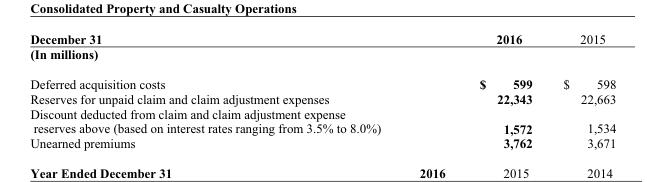table: (29, 29, 615, 151)
table column: (29, 29, 429, 151), (429, 29, 547, 151), (547, 29, 615, 151)
table column header: (29, 29, 615, 45)
table projected row header: (29, 45, 615, 68)
table row: (29, 105, 615, 135), (29, 45, 615, 68), (29, 68, 615, 90), (29, 29, 615, 45), (29, 135, 615, 151), (29, 90, 615, 105)
